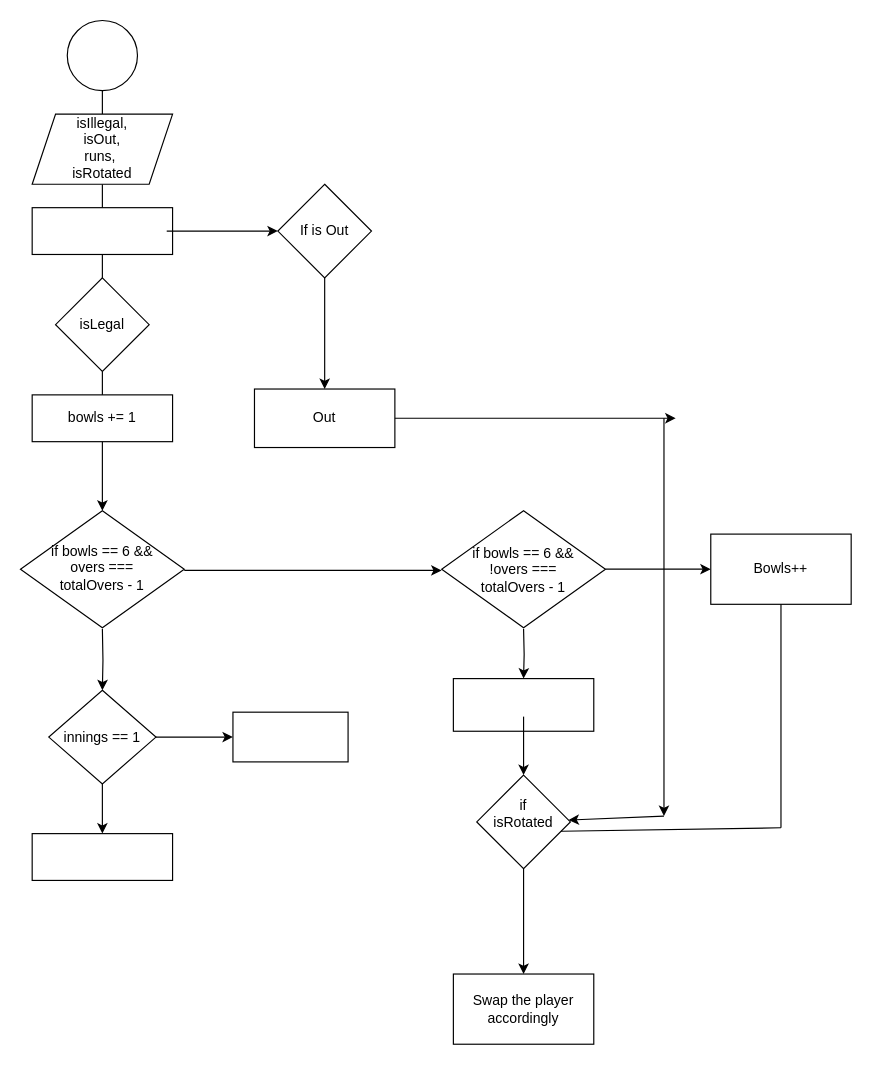
The diagram is 872 pixels wide and 1065 high, and some of its shapes have lost their labels. Here are the shapes that lost their labels. From the top down, the centre of each, then its label:
At pixel 101 55: "Start".
At pixel 102 230: "Marks += runs".
At pixel 523 704: "bowls ++".
At pixel 290 736: "End the match".
At pixel 102 856: "Innings = 2".
